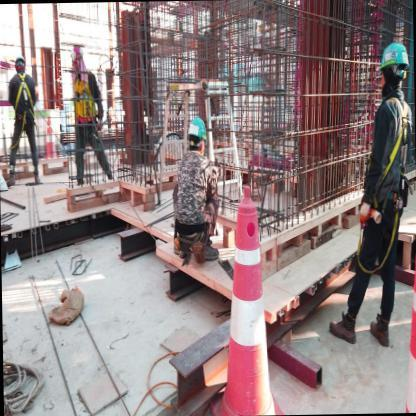Helmet: (374, 41, 409, 77), (183, 114, 212, 145)
safety-shoe: (326, 313, 362, 347), (367, 313, 392, 356)
